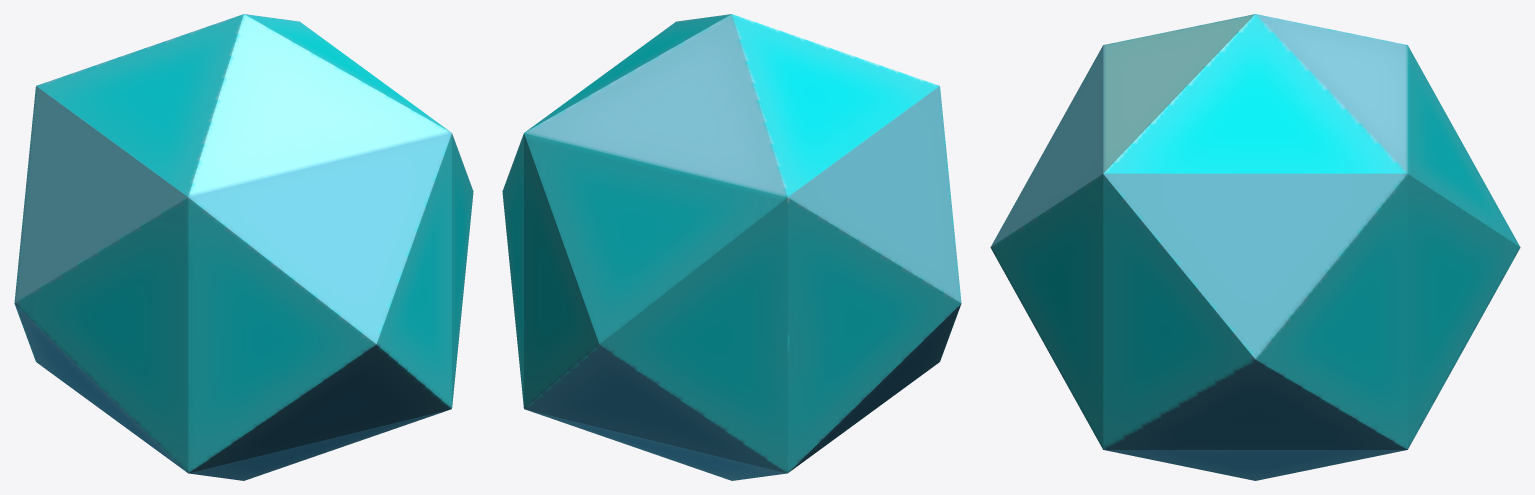
File: water.fbx
The picture shows the model from 3 angles, left to right: view 1: azimuth 30°, elevation 25°; view 2: azimuth 150°, elevation 25°; view 3: azimuth 270°, elevation 25°; orthographic projection.
Parts seen in each view (by area): view 1: water; view 2: water; view 3: water.
Part boxes in pixels (x1=…): water: x1=14, y1=14, x2=473, y2=480; water: x1=502, y1=14, x2=961, y2=480; water: x1=990, y1=14, x2=1520, y2=480.
Size of the model in its own units: 1.22 by 1.18 by 1.22.
